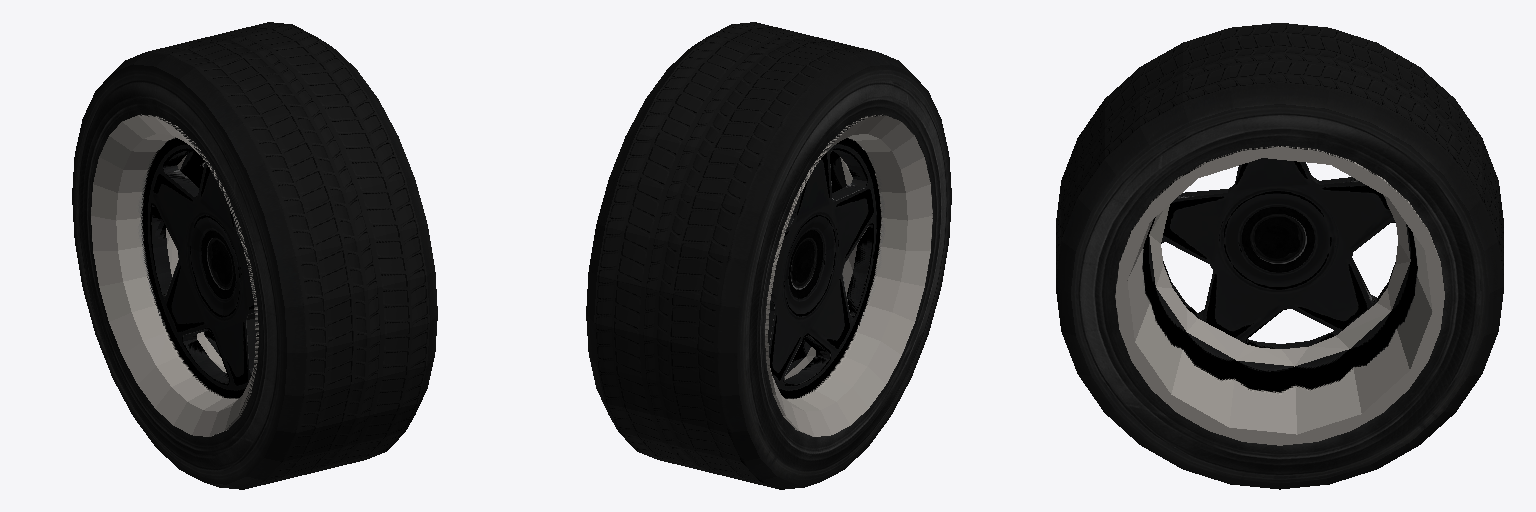
3 renders of one model, left to right at view 1: azimuth 30°, elevation 25°; view 2: azimuth 150°, elevation 25°; view 3: azimuth 270°, elevation 25°, orthographic.
Visible parts, largest first — view 1: Wheel_L; view 2: Wheel_L; view 3: Wheel_L.
Boxes of the visible parts, x1=… form: Wheel_L: x1=72, y1=22, x2=437, y2=489; Wheel_L: x1=586, y1=22, x2=951, y2=489; Wheel_L: x1=1056, y1=23, x2=1503, y2=489.
Bounding box in the file's own units: 2.47 × 5.8 × 5.8.
1 materials, 1 textured.